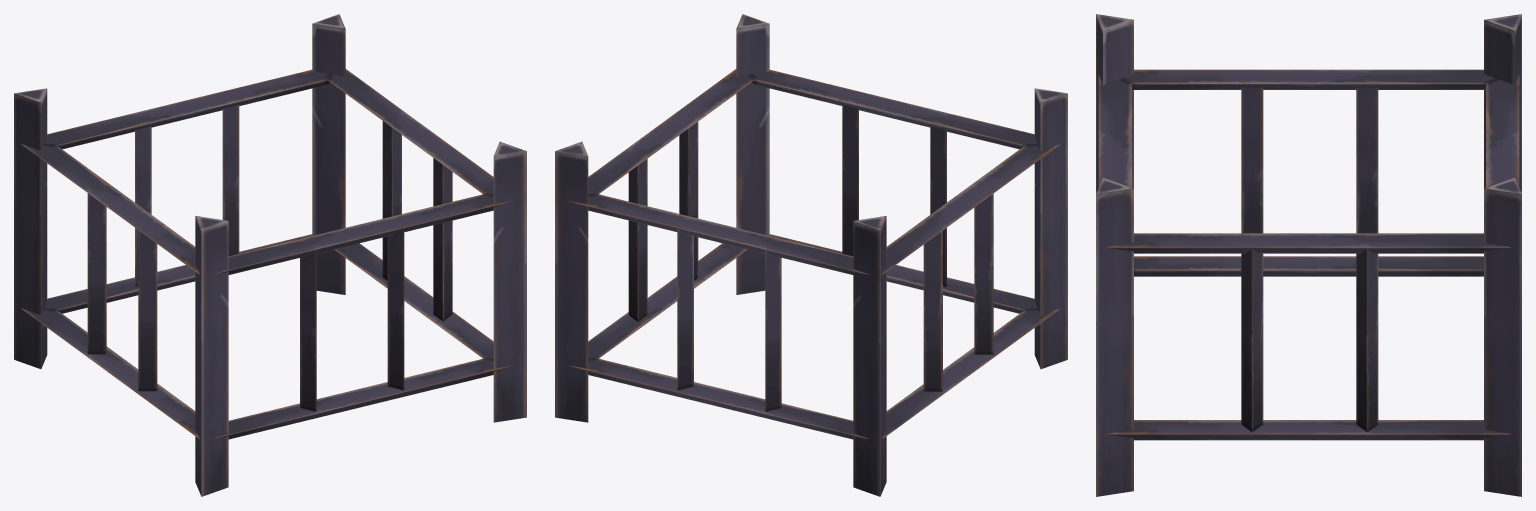
Rendered from treeFence.fbx.
3 renders of one model, left to right at view 1: azimuth 30°, elevation 25°; view 2: azimuth 150°, elevation 25°; view 3: azimuth 270°, elevation 25°, orthographic. The views are drawn at different scales.
Visible parts, largest first — view 1: treeFence; view 2: treeFence; view 3: treeFence.
Part boxes in pixels (x1,y1,x2,y2): treeFence: [14, 14, 526, 496]; treeFence: [555, 14, 1067, 496]; treeFence: [1096, 14, 1521, 496].
Size of the model in its own units: 110 by 86.22 by 110.
